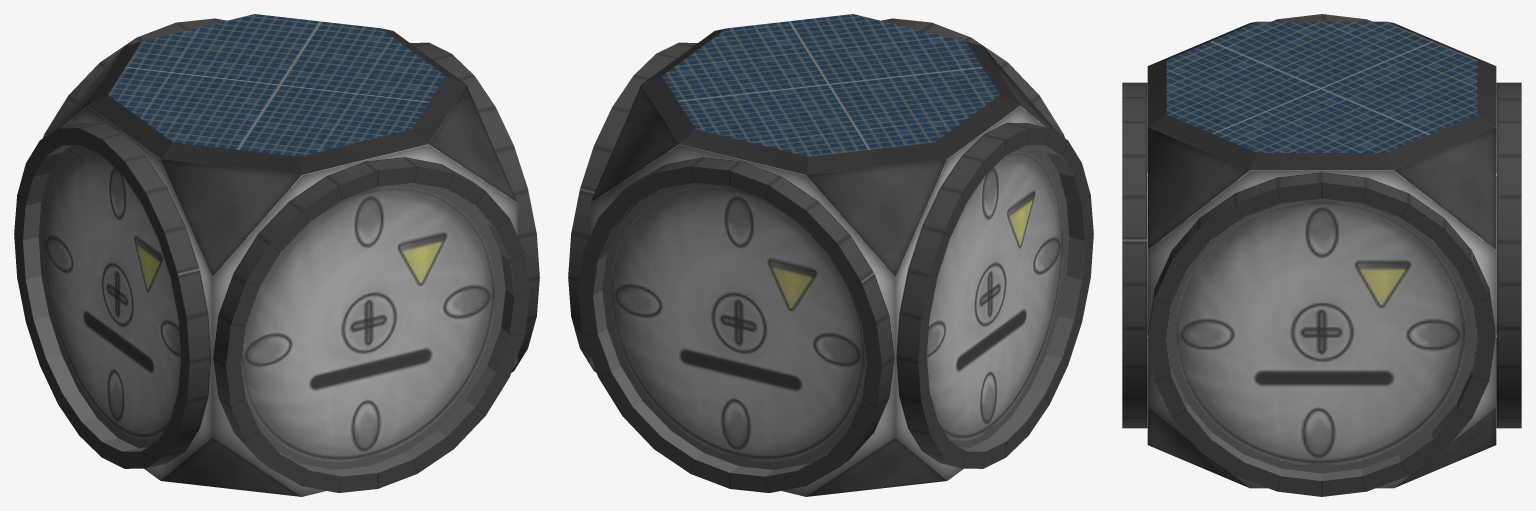
File: Switchback.FBX
3 views of the same model, side by side, from view 1: azimuth 30°, elevation 25°; view 2: azimuth 150°, elevation 25°; view 3: azimuth 270°, elevation 25° (orthographic).
Visible parts, largest first — view 1: AccessPort002, AccessPort001, SolarPanels, MainBody, AccessPort003, AccessPort004; view 2: AccessPort004, AccessPort001, SolarPanels, MainBody, AccessPort003, AccessPort002; view 3: AccessPort003, SolarPanels, MainBody, AccessPort004, AccessPort002, AccessPort001.
Part boxes in pixels (x1,y1,x2,y2): AccessPort002: (213, 157, 530, 492); AccessPort001: (14, 122, 211, 468); SolarPanels: (108, 14, 445, 156); MainBody: (48, 28, 517, 496); AccessPort003: (410, 42, 539, 372); AccessPort004: (43, 18, 226, 137); AccessPort004: (577, 157, 894, 492); AccessPort001: (896, 122, 1093, 468); SolarPanels: (662, 14, 999, 156); MainBody: (590, 28, 1059, 496); AccessPort003: (568, 42, 697, 372); AccessPort002: (881, 18, 1064, 137); AccessPort003: (1148, 172, 1495, 496); SolarPanels: (1166, 21, 1477, 152); MainBody: (1147, 21, 1496, 488); AccessPort004: (1496, 82, 1521, 428); AccessPort002: (1122, 82, 1147, 428); AccessPort001: (1271, 14, 1372, 21).
Size of the model in its own units: 1.15 by 1.04 by 1.15.
